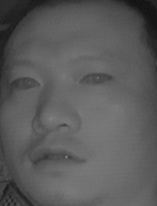eye: (78, 68, 114, 90), (9, 72, 42, 94)
mouth: (24, 139, 86, 178)
